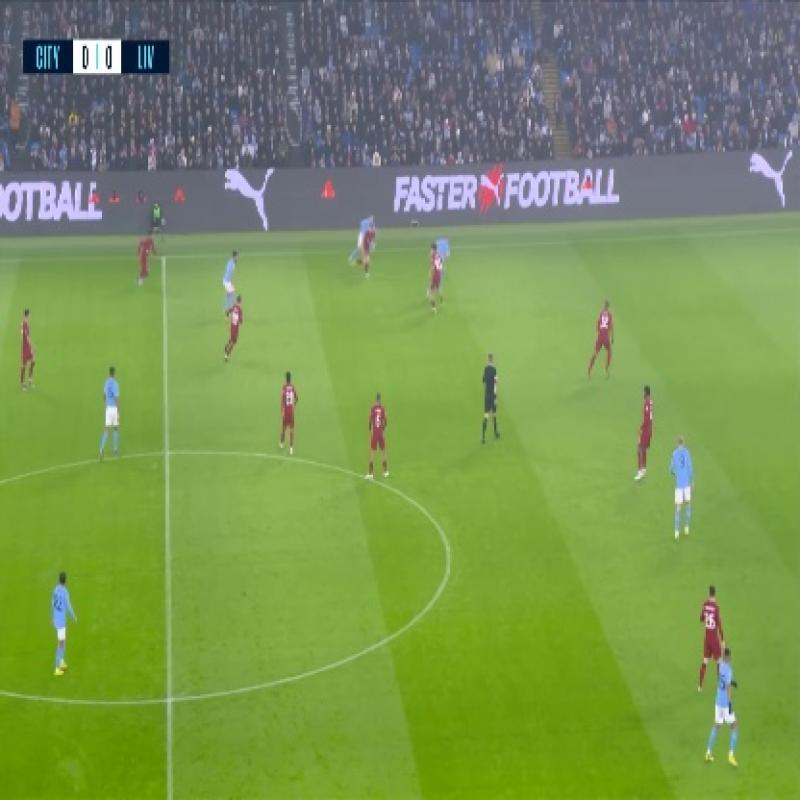13: (154, 242, 175, 271)
14: (146, 430, 185, 473)
15: (150, 675, 185, 721)
c: (427, 528, 470, 590)
